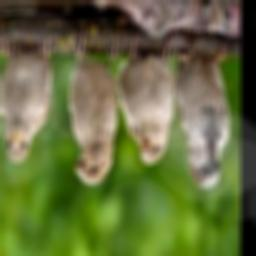Sparrow: (175, 42, 230, 189), (69, 31, 120, 184), (0, 32, 53, 163), (118, 43, 174, 165)
